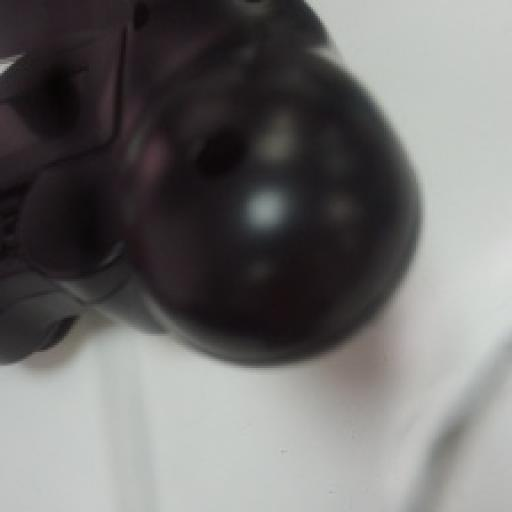game pad: (0, 0, 416, 361)
